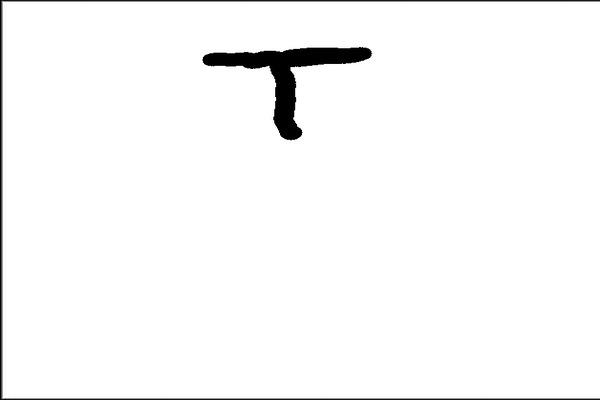T: (198, 41, 380, 144)
